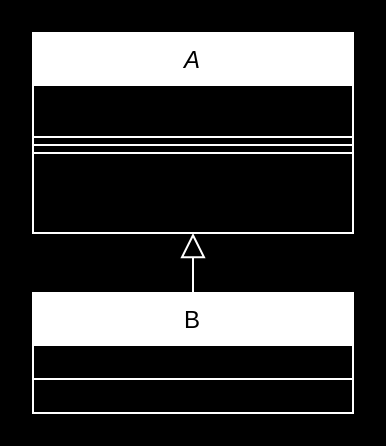
The diagram is 386 pixels wide and 446 high, and some of its shapes have lost their labels. The shapes that lost their labels are listed below. From the top down, each one's centre as x and y in pixels, then its label:
At [192,110]: "message : String".
At [192,192]: "getMessage() : String setMessage() : void".
